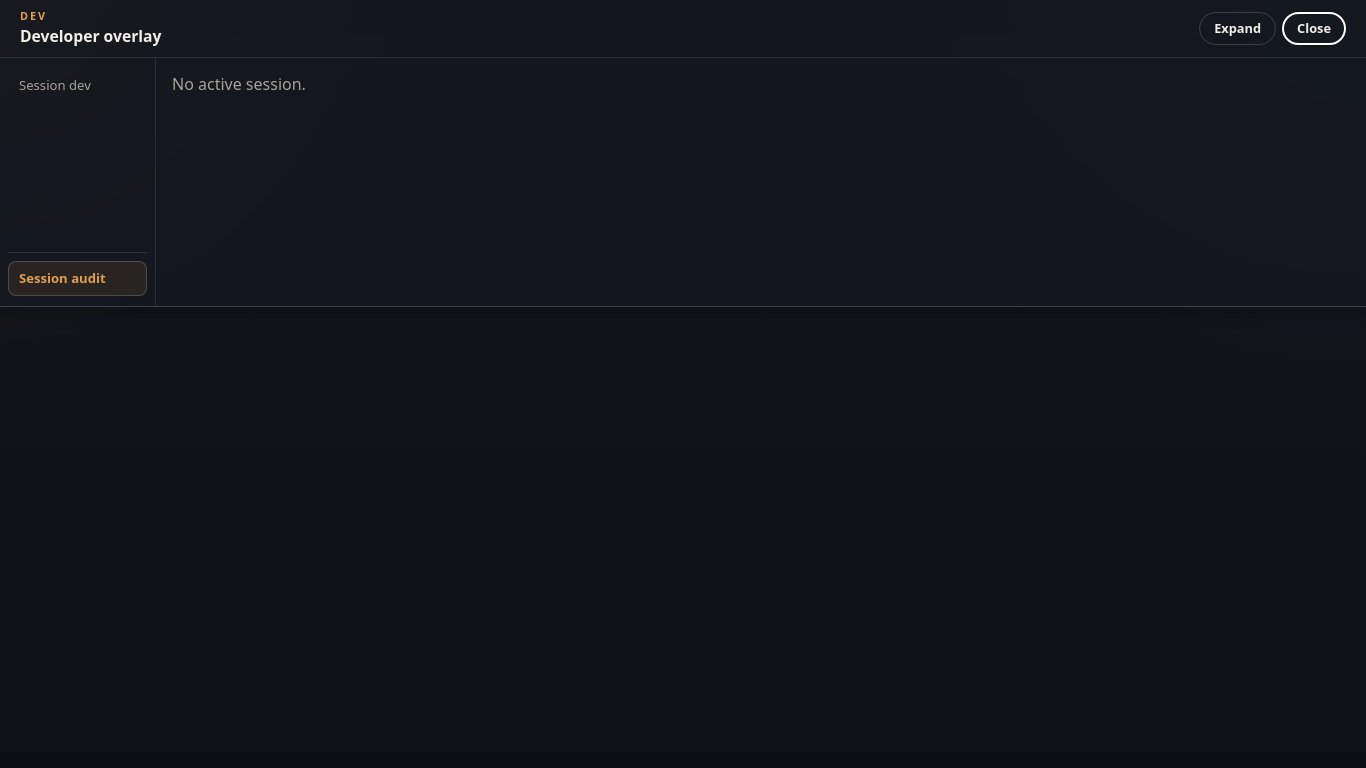
Test case: DevOverlay › expands when Expand is clicked and shows Shrink button
Click the button "Expand" at point(1238, 28), box [1199, 12, 1276, 45]
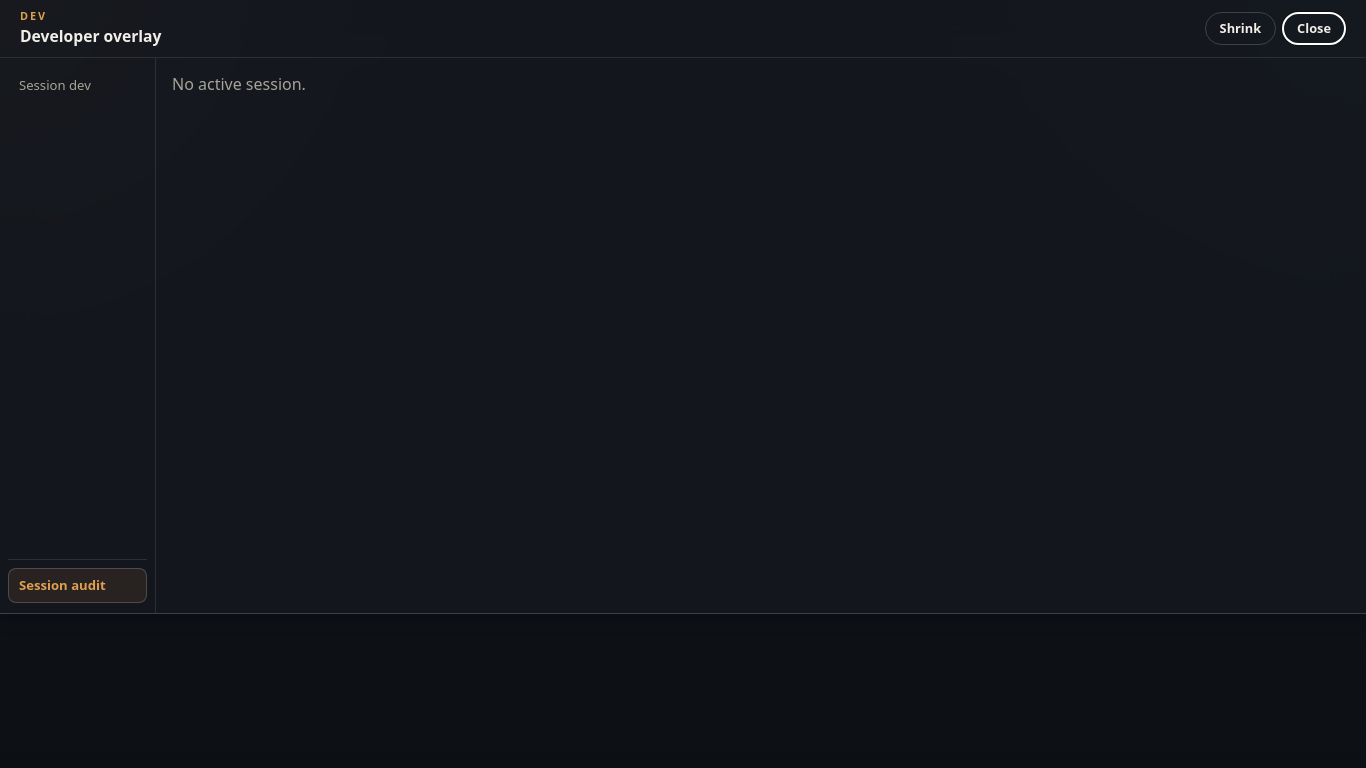
Check: the button "Shrink" is shown, box [1205, 12, 1276, 45]
Check: the button "Expand" is gone
